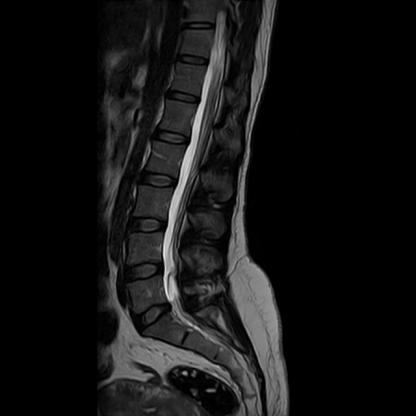Disc Bulgerotation: (133, 304, 172, 328), (125, 260, 162, 283)
